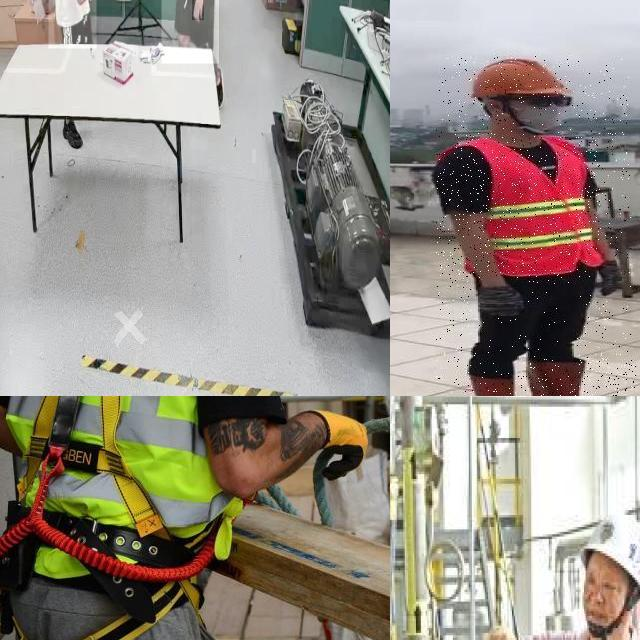Harness: (23, 396, 164, 536)
No_Ear-Protection: (579, 513, 640, 640)
boots: (528, 358, 636, 396), (454, 369, 554, 396)
hand_noglove: (191, 0, 204, 21), (74, 0, 87, 5)
head_helmet: (468, 56, 570, 99)
person: (436, 56, 631, 396), (161, 0, 219, 64), (48, 0, 97, 49)
shoes: (63, 119, 84, 152)
vest: (436, 137, 600, 277)
